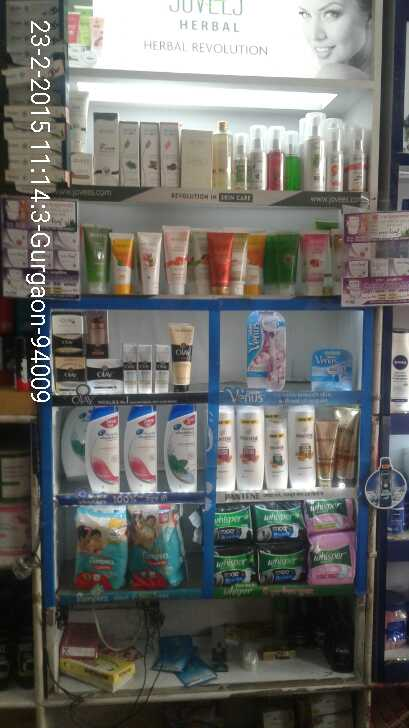venus: (247, 312, 286, 389), (311, 348, 353, 393)
